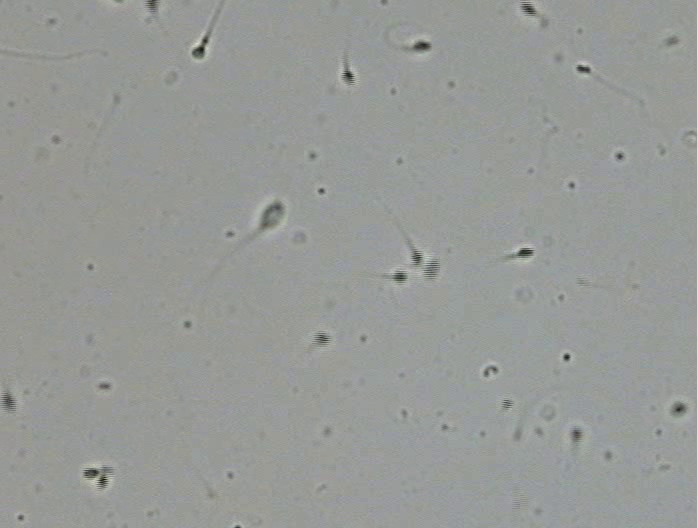S: (259, 202, 285, 228), (423, 260, 440, 280), (1, 393, 17, 413), (313, 331, 330, 347), (520, 1, 537, 17), (341, 69, 356, 86), (412, 41, 432, 53), (392, 270, 408, 284), (410, 249, 423, 266), (82, 468, 100, 480), (516, 248, 535, 259), (96, 474, 109, 490), (191, 45, 205, 59), (144, 1, 158, 14), (672, 403, 686, 415), (571, 428, 582, 442), (576, 64, 591, 74)
